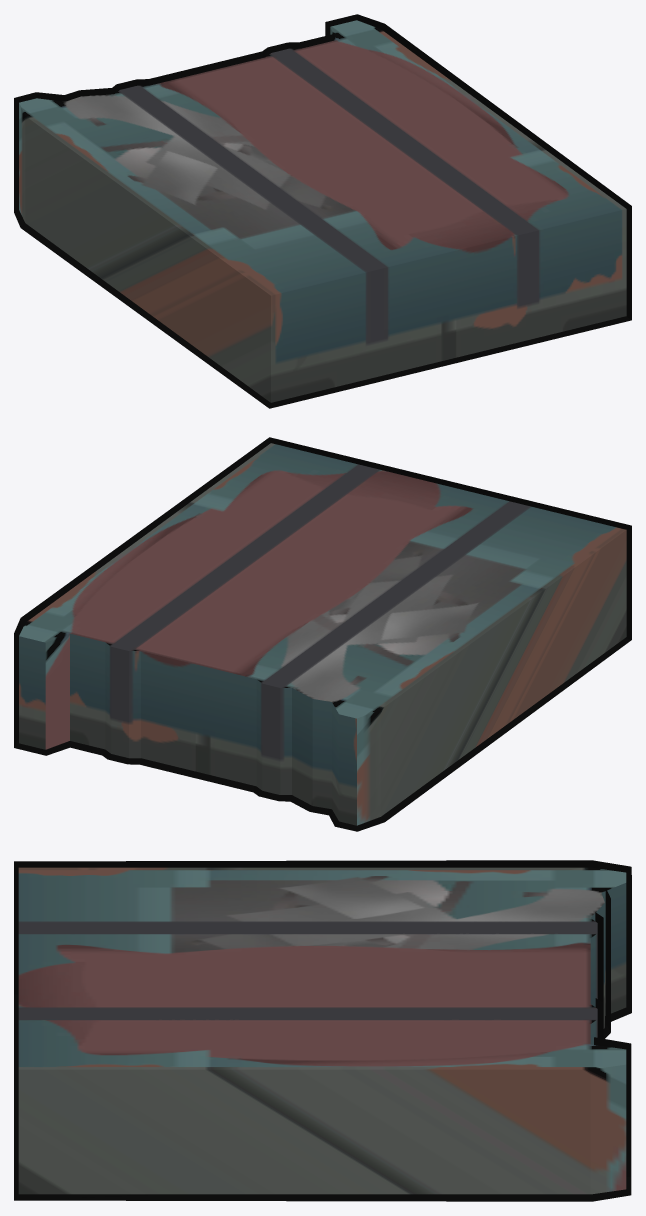
The model's file is Building_AncientPallet_SteelSlag_Things_Building_Ancient_OpenableContainers_SteelSlagPallet_Close.glb.
3 renders of one model, top to bottom at view 1: azimuth 30°, elevation 25°; view 2: azimuth 150°, elevation 25°; view 3: azimuth 270°, elevation 25°, orthographic. The views are drawn at different scales.
Parts seen in each view (by area): view 1: Body, Outline; view 2: Body, Outline; view 3: Body, Outline.
Boxes of the visible parts, left/top/right/bottom form: Body: left=19, top=20, right=626, bottom=402; Outline: left=14, top=14, right=631, bottom=408; Body: left=19, top=443, right=626, bottom=825; Outline: left=14, top=437, right=631, bottom=831; Body: left=18, top=867, right=626, bottom=1194; Outline: left=14, top=860, right=631, bottom=1201.
Bounding box in the file's own units: 1.92 × 0.5939 × 2.42.
2 materials, 1 textured.
